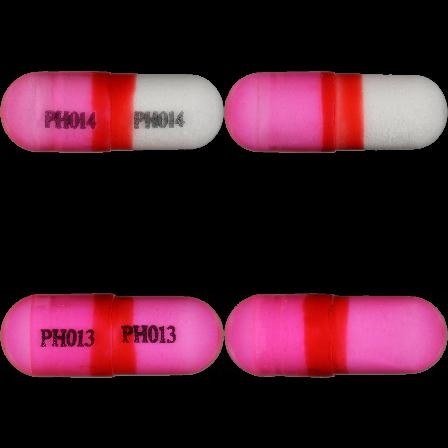66267-080: (0, 0, 224, 224)
